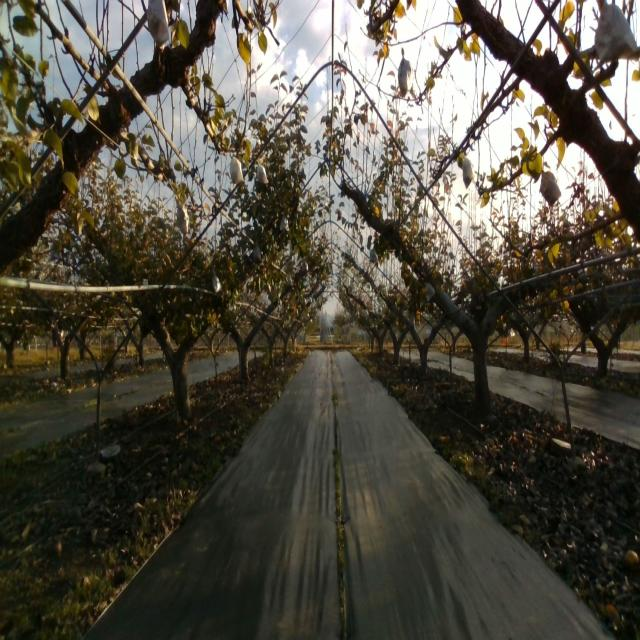pearbags: (593, 0, 640, 73), (147, 0, 171, 53), (539, 168, 561, 207), (397, 47, 412, 98), (175, 195, 190, 234), (461, 156, 474, 190), (230, 156, 244, 185), (255, 161, 270, 184), (424, 281, 436, 302), (212, 275, 222, 293)
